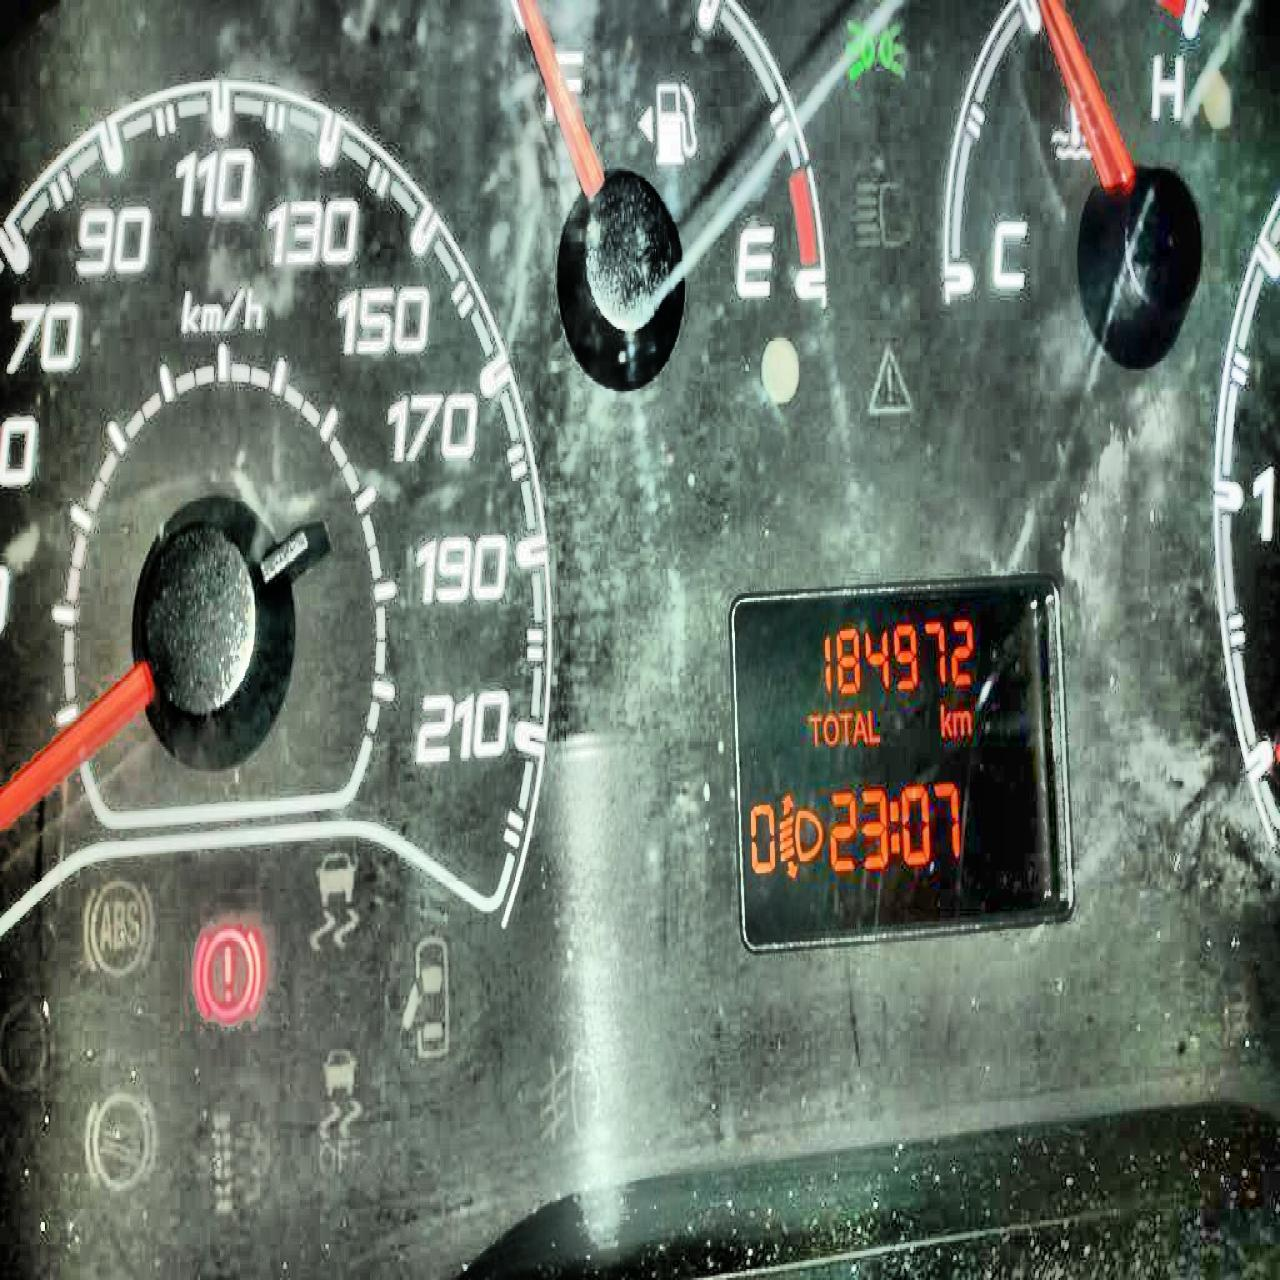0: (900, 784, 930, 865), (747, 801, 775, 876)
1: (821, 633, 831, 694)
2: (828, 789, 857, 871), (949, 618, 972, 685)
3: (859, 787, 886, 869)
4: (864, 629, 888, 689)
7: (933, 782, 959, 858), (924, 618, 945, 682)
8: (835, 627, 860, 693)
9: (892, 622, 918, 689)
X: (822, 712, 839, 747), (887, 798, 899, 851), (851, 709, 867, 744), (805, 712, 821, 747), (837, 709, 852, 744), (951, 709, 971, 735), (866, 707, 880, 742), (939, 702, 952, 736)
odometer: (726, 568, 1075, 955)
